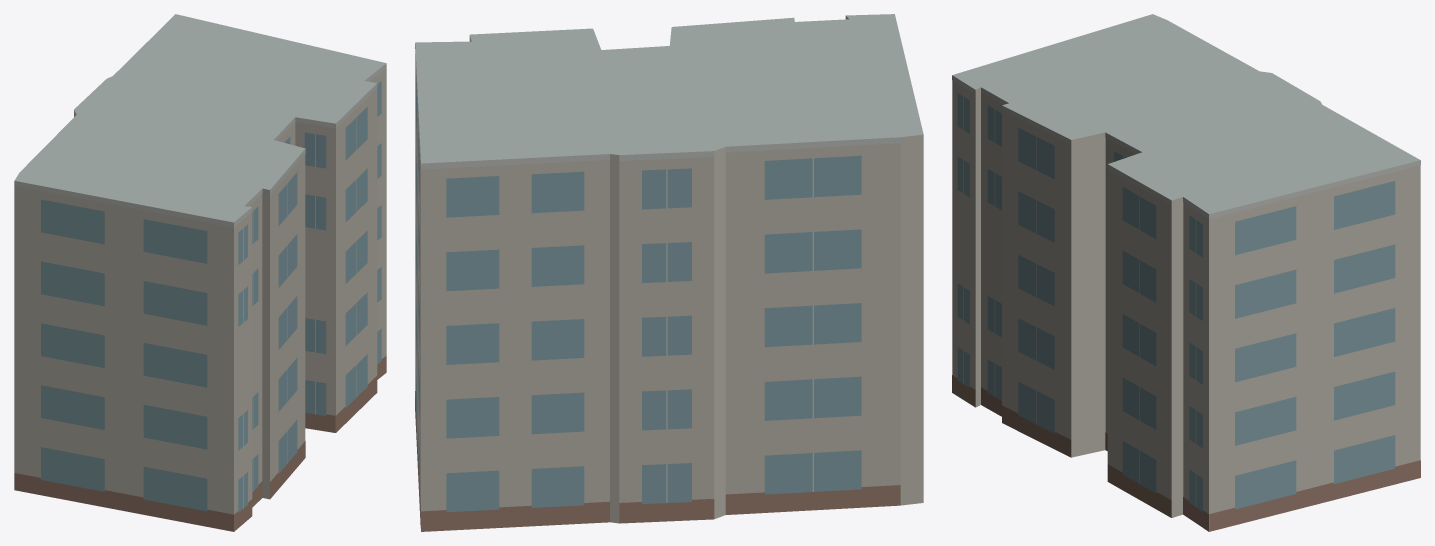
Rendered from survey-upis-32774069.glb.
The picture shows the model from 3 angles, left to right: view 1: azimuth 30°, elevation 25°; view 2: azimuth 150°, elevation 25°; view 3: azimuth 270°, elevation 25°; orthographic projection. The views are drawn at different scales.
Visible parts, largest first — view 1: survey-upis-32774069.tmp; view 2: survey-upis-32774069.tmp; view 3: survey-upis-32774069.tmp.
Part boxes in pixels (x1,y1,x2,y2): survey-upis-32774069.tmp: (14, 14, 386, 531); survey-upis-32774069.tmp: (415, 14, 923, 531); survey-upis-32774069.tmp: (952, 14, 1420, 531).
Bounding box in the file's own units: 20.69 × 15.3 × 20.47.
